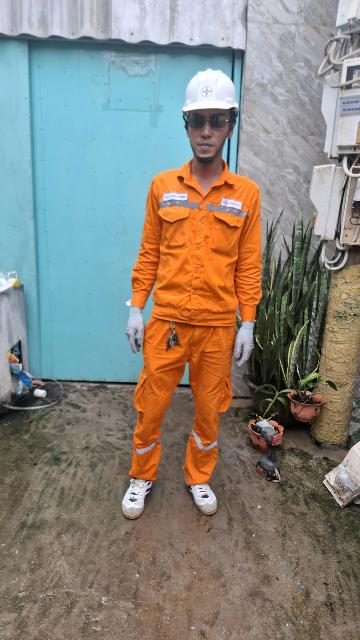gloves: (116, 301, 153, 357), (232, 316, 256, 381)
helmet: (179, 65, 244, 125)
shoes: (180, 467, 228, 522), (115, 462, 156, 525)
